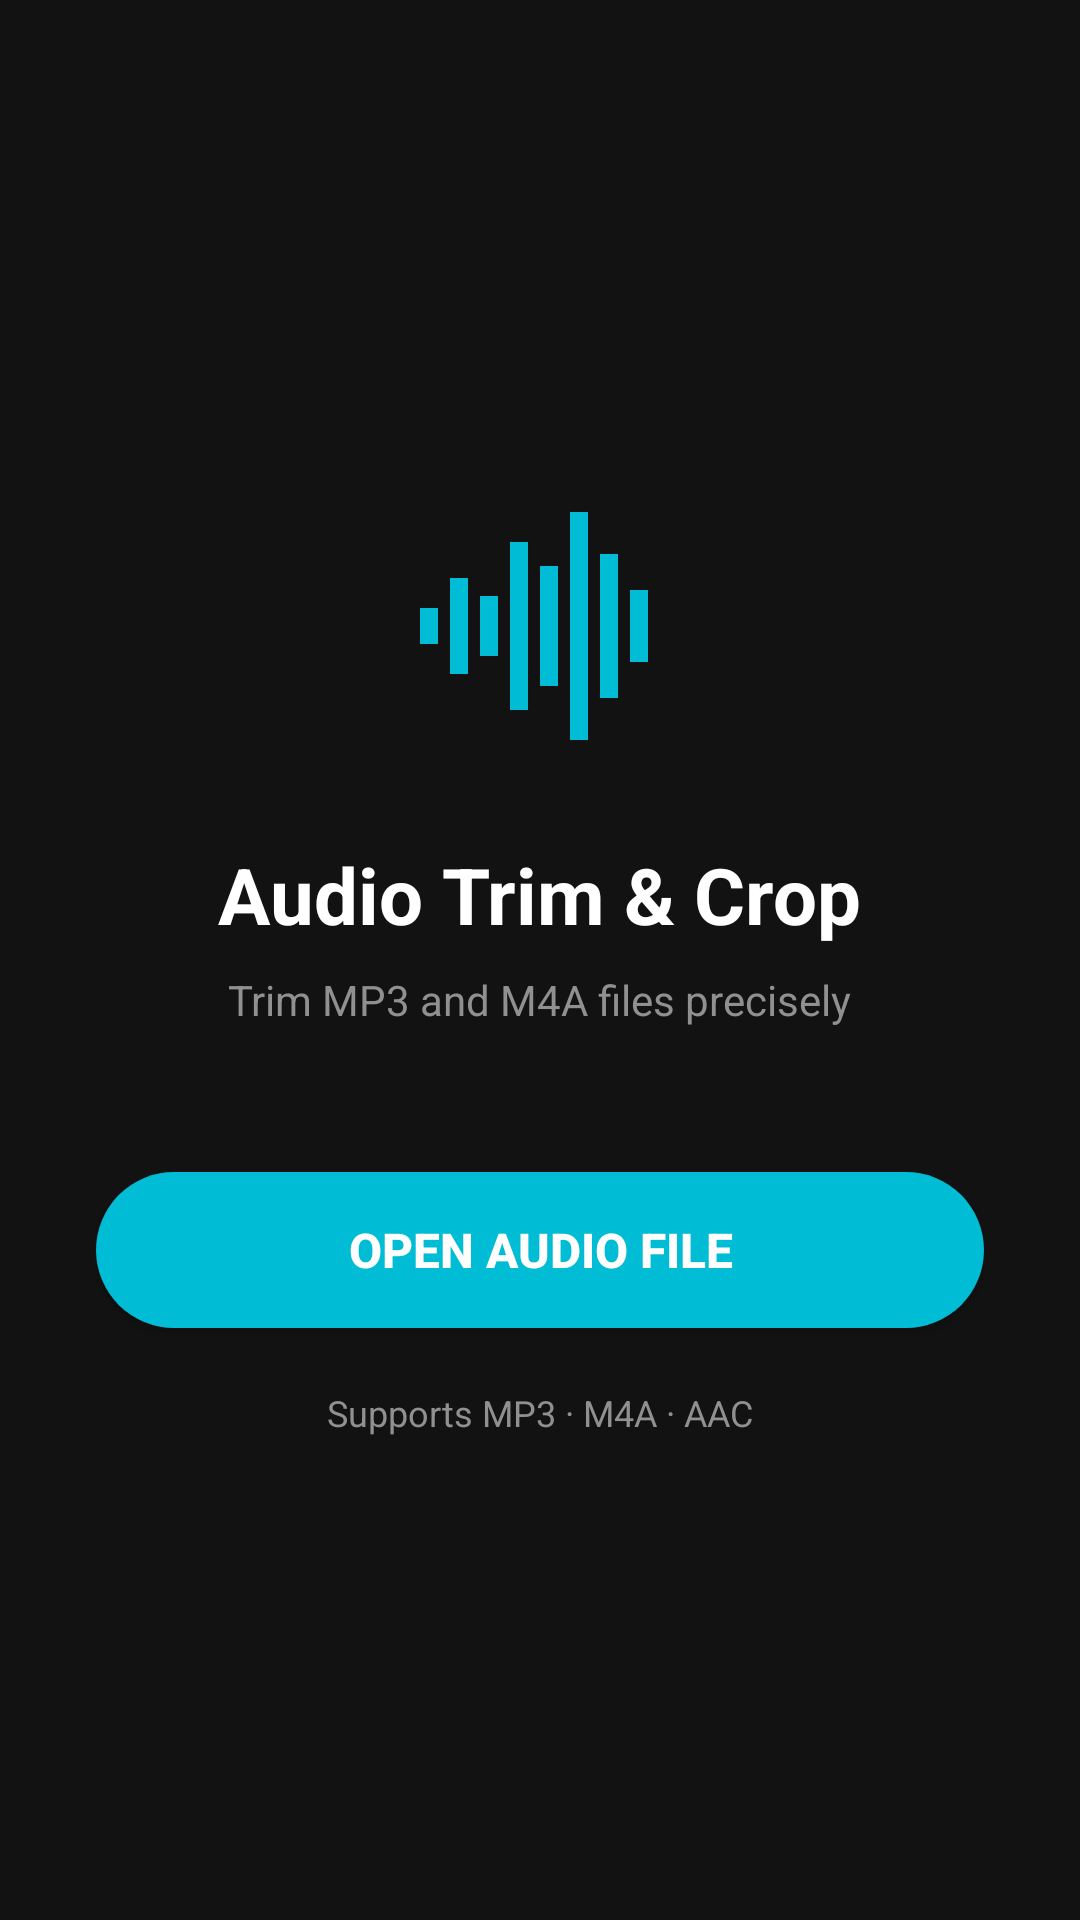

Icon bounding boxes for this 1080x1920 phone screenshot, format rect(x1, y1, x2, y2):
waveform: rect(420, 512, 648, 740)
